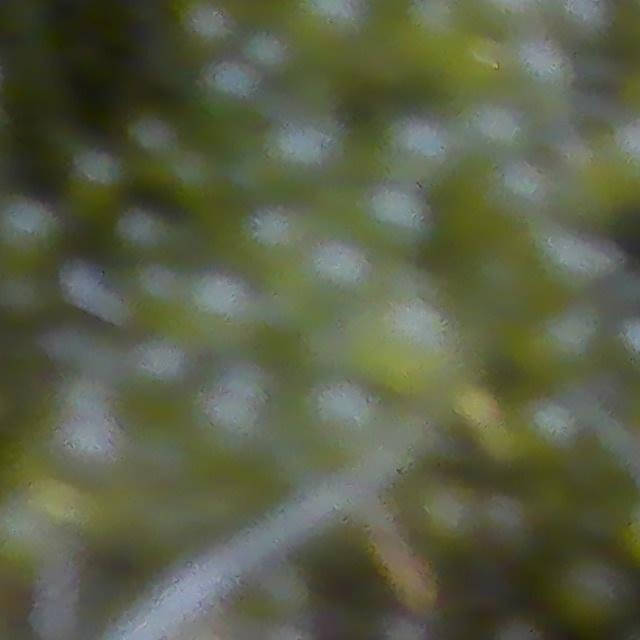SeaGrape: (189, 358, 280, 464), (177, 267, 260, 356), (551, 552, 632, 633), (359, 181, 439, 261), (298, 376, 378, 453), (282, 0, 372, 59), (297, 234, 370, 303), (123, 331, 194, 399), (0, 194, 64, 269), (199, 57, 259, 118)
